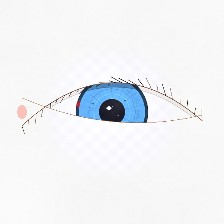hemorrhage_spot: (69, 91, 134, 143)
